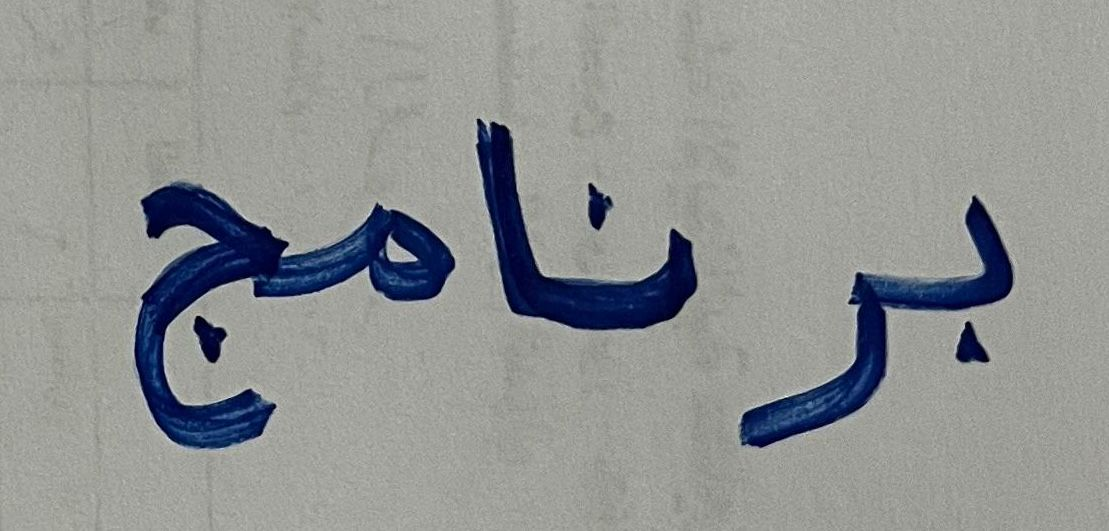alef: (463, 92, 549, 358)
beh: (902, 142, 1067, 408)
jeem: (77, 134, 295, 474)
meem: (300, 179, 456, 332)
noon: (557, 145, 713, 389)
reh: (724, 212, 898, 499)
